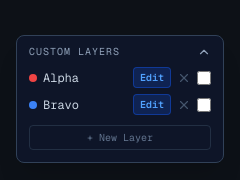
Test: CustomLayerPanel › shows inline delete confirm on trash click
The width and height of the screenshot is (240, 180).
Click the button with test id "layer-delete-a": x=184, y=78 x1=177 y1=70 x2=191 y2=84
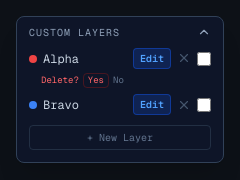
Check: the button with test id "layer-delete-confirm-a" is shown, box x1=83 y1=72 x2=109 y2=88
